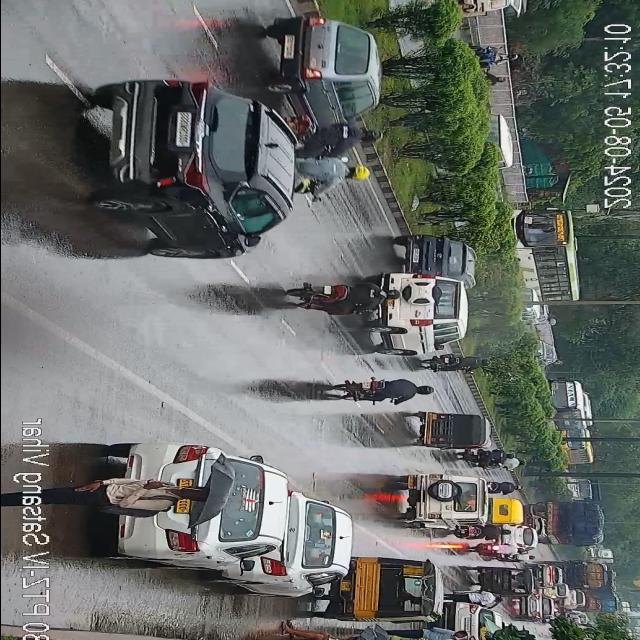2-wheelers: (296, 119, 378, 166), (288, 280, 392, 312), (537, 496, 603, 546), (291, 154, 358, 202), (332, 380, 437, 403), (456, 441, 526, 469), (422, 351, 483, 379), (471, 42, 516, 68), (454, 522, 508, 542), (472, 541, 524, 559), (504, 555, 536, 561)
auto: (334, 554, 440, 622), (394, 466, 480, 531), (412, 409, 486, 449), (466, 564, 532, 600), (484, 494, 522, 526)
bus: (512, 210, 580, 306), (543, 378, 595, 432), (547, 431, 595, 468)
car: (90, 73, 298, 269), (164, 451, 284, 571), (280, 16, 384, 124), (245, 500, 353, 592), (372, 276, 468, 358), (400, 235, 470, 281), (447, 599, 498, 640), (512, 593, 554, 621), (534, 564, 564, 598), (506, 525, 538, 549)
pedestrian: (66, 476, 225, 511), (278, 618, 361, 640), (392, 623, 470, 640), (448, 586, 503, 608), (316, 630, 402, 640)
truck: (560, 560, 604, 588)
